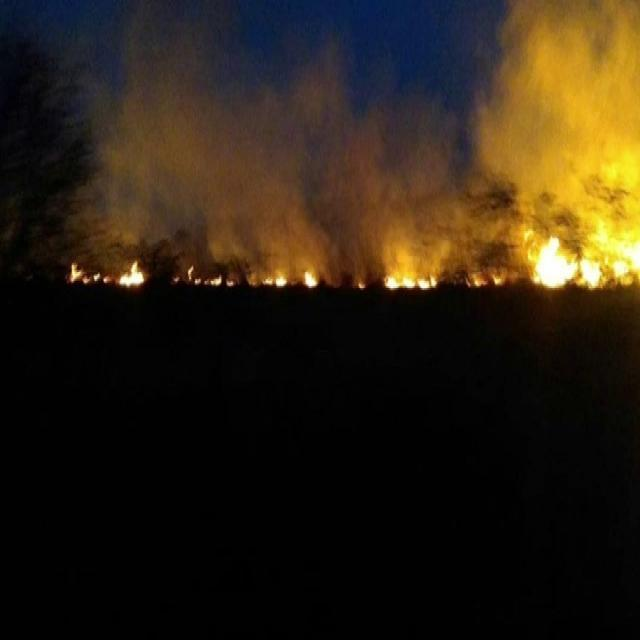Fire: (528, 222, 639, 292), (68, 258, 146, 286), (383, 264, 437, 292), (181, 261, 228, 288), (117, 260, 145, 288), (263, 270, 288, 288), (303, 266, 318, 288)
Smoke: (71, 3, 633, 266)
